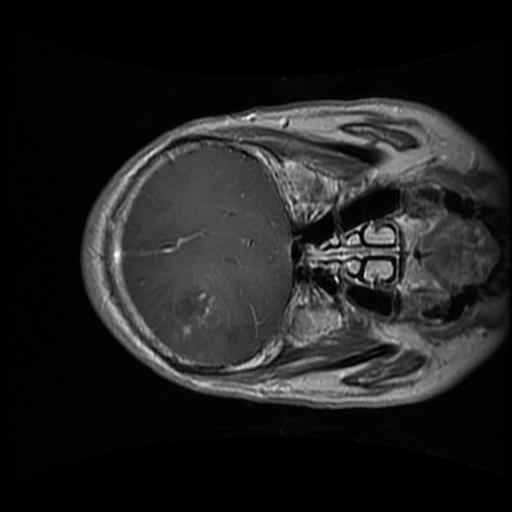glioma: (165, 285, 224, 345)
